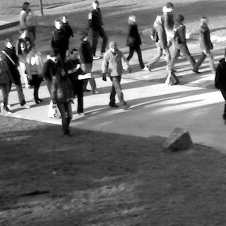person: (101, 40, 130, 110), (49, 64, 75, 138), (3, 37, 30, 108), (145, 15, 175, 72), (167, 14, 195, 73), (62, 49, 85, 116), (77, 31, 100, 95), (124, 15, 147, 71), (192, 16, 214, 74), (43, 49, 61, 119), (86, 1, 107, 60), (25, 44, 44, 104), (214, 47, 226, 125), (48, 19, 69, 62), (160, 2, 176, 56), (18, 2, 37, 45), (1, 51, 12, 113), (60, 15, 74, 50)
